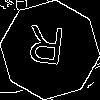R: (25, 25, 66, 74)
